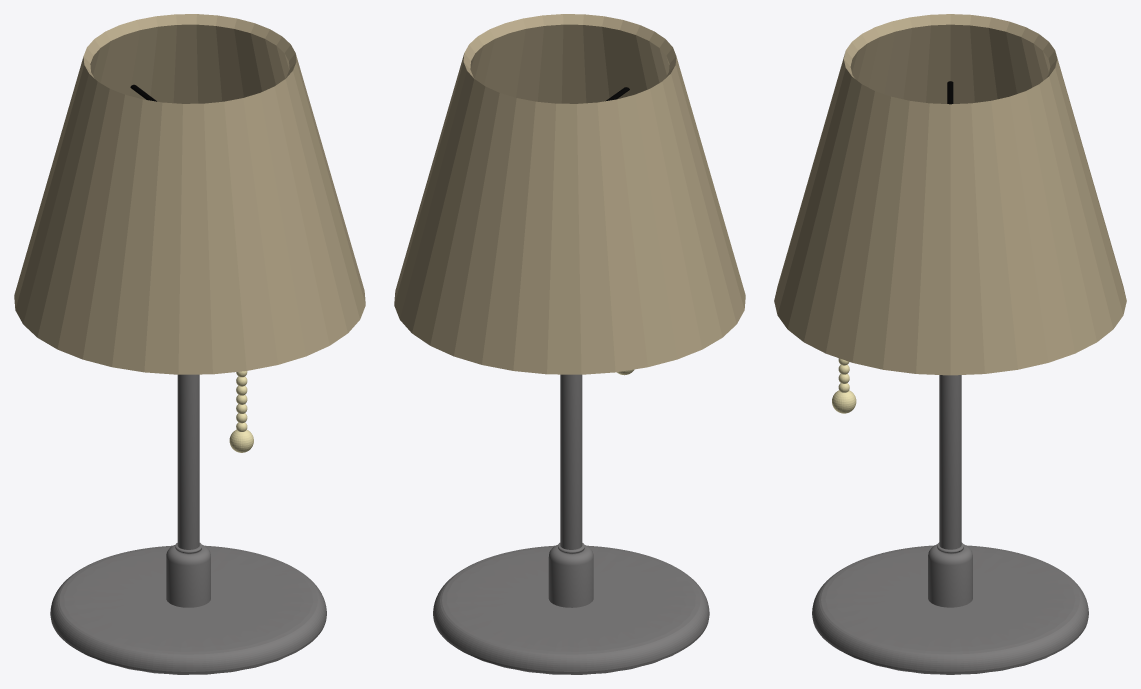
Rendered from tabel_lapm_-_lowpoly.glb.
The picture shows the model from 3 angles, left to right: view 1: azimuth 30°, elevation 25°; view 2: azimuth 150°, elevation 25°; view 3: azimuth 270°, elevation 25°; orthographic projection.
Parts seen in each view (by area): view 1: Circle.004, Circle, Cylinder, Circle.005; view 2: Circle.004, Circle, Cylinder, Circle.005; view 3: Circle.004, Circle, Cylinder, Circle.005.
Part boxes in pixels (<box>): Circle.004: <box>14,14,365,374</box>; Circle: <box>50,545,326,674</box>; Cylinder: <box>177,374,199,549</box>; Circle.005: <box>166,544,210,607</box>; Circle.004: <box>394,14,745,374</box>; Circle: <box>433,545,709,674</box>; Cylinder: <box>560,374,582,549</box>; Circle.005: <box>548,544,593,607</box>; Circle.004: <box>774,14,1126,375</box>; Circle: <box>812,545,1088,674</box>; Cylinder: <box>939,375,961,549</box>; Circle.005: <box>928,544,972,607</box>.
Size of the model in its own units: 2.66 by 4.7 by 2.66.
